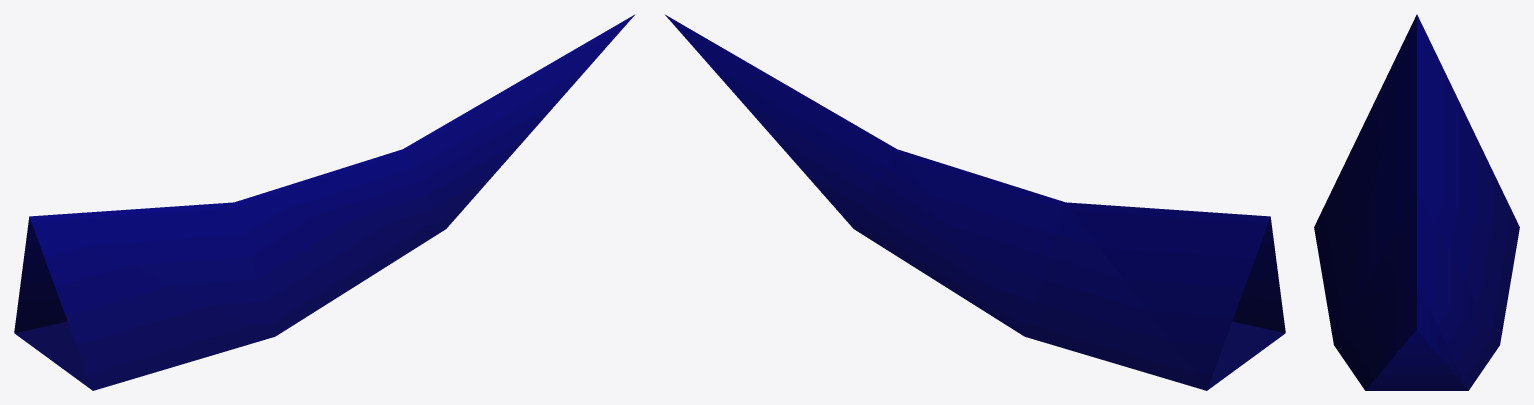
3 views of the same model, side by side, from view 1: azimuth 30°, elevation 25°; view 2: azimuth 150°, elevation 25°; view 3: azimuth 270°, elevation 25° (orthographic). The views are drawn at different scales.
Parts seen in each view (by area): view 1: mesh_B42F947FAA92C815; view 2: mesh_B42F947FAA92C815; view 3: mesh_B42F947FAA92C815.
Part boxes in pixels (<box>): mesh_B42F947FAA92C815: <box>14,14,634,390</box>; mesh_B42F947FAA92C815: <box>665,14,1285,390</box>; mesh_B42F947FAA92C815: <box>1314,14,1519,390</box>.
Size of the model in its own units: 2.38 by 0.7724 by 0.5361.
